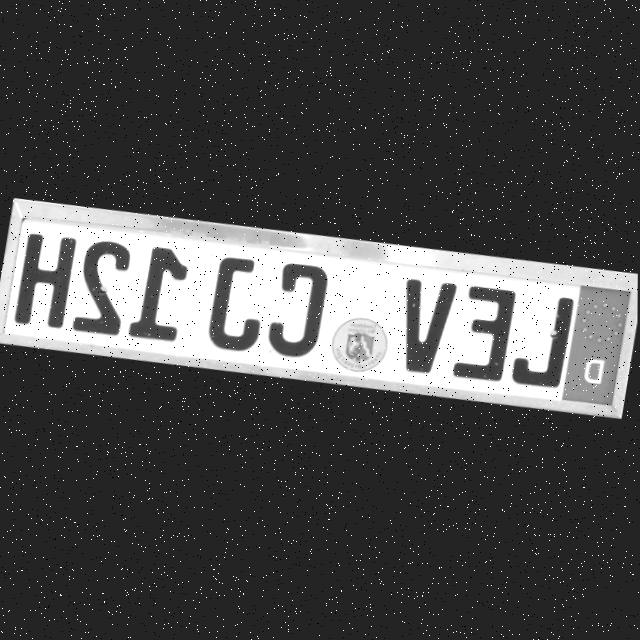license-plates: (3, 218, 633, 408)
